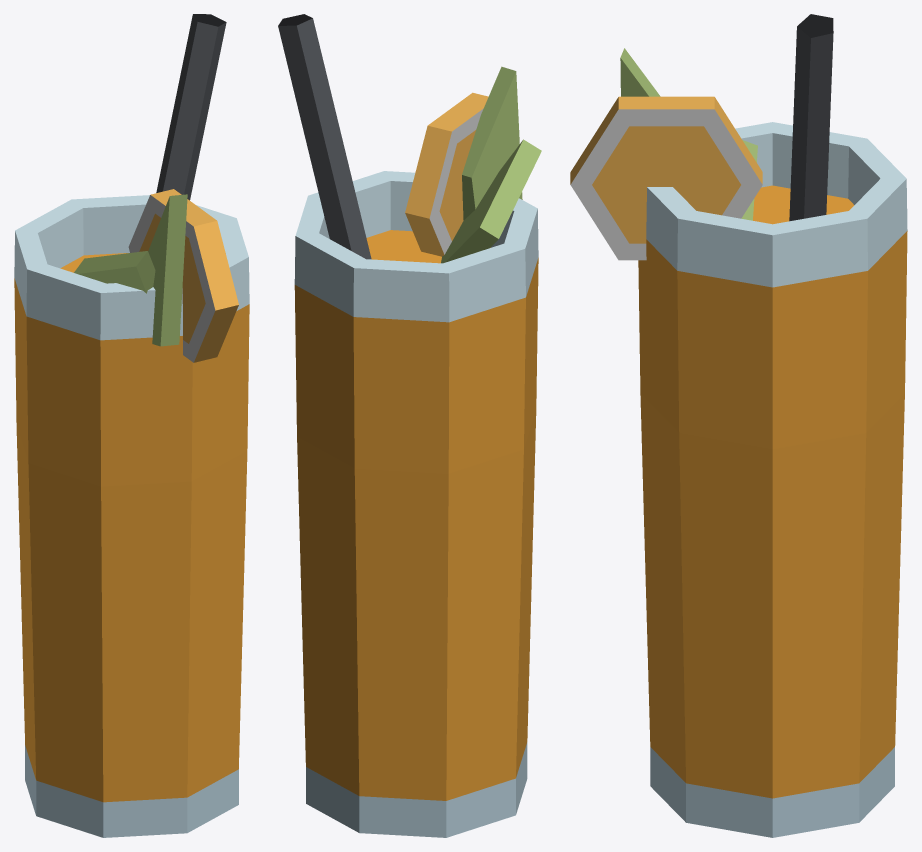
Rendered from SM_Item_Drink_Glass_01.fbx.
3 renders of one model, left to right at view 1: azimuth 30°, elevation 25°; view 2: azimuth 150°, elevation 25°; view 3: azimuth 270°, elevation 25°, orthographic. The views are drawn at different scales.
Visible parts, largest first — view 1: SM_Item_Drink_Glass_01; view 2: SM_Item_Drink_Glass_01; view 3: SM_Item_Drink_Glass_01.
Boxes of the visible parts, x1=… form: SM_Item_Drink_Glass_01: x1=14, y1=14, x2=249, y2=837; SM_Item_Drink_Glass_01: x1=278, y1=14, x2=541, y2=837; SM_Item_Drink_Glass_01: x1=570, y1=14, x2=907, y2=837.
Bounding box in the file's own units: 9.57 × 31.04 × 11.61.
